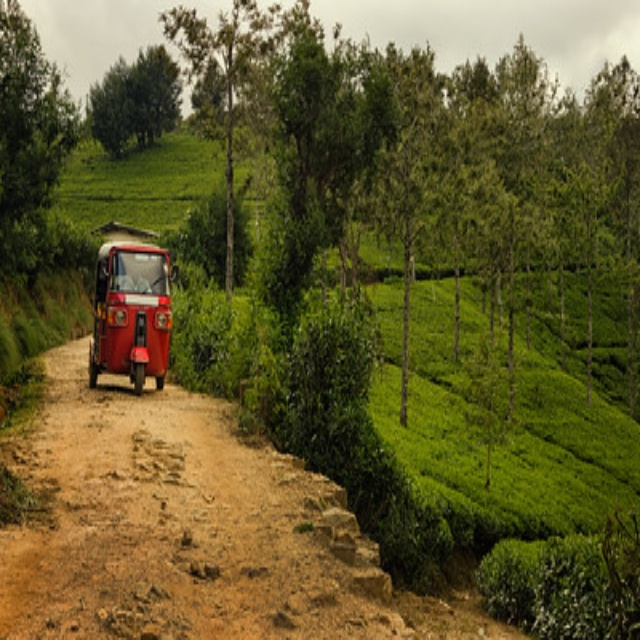Motorcycle: (86, 239, 181, 396)
